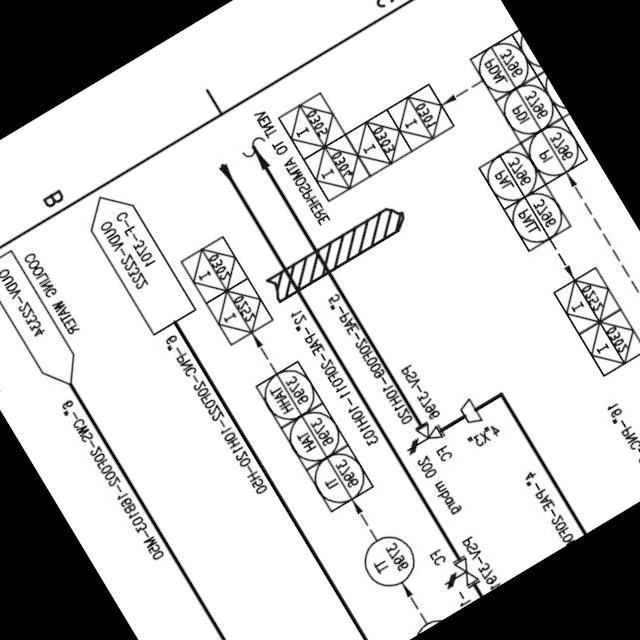RPV: (396, 412, 450, 460), (433, 550, 483, 600)
SP: (454, 392, 487, 430)
